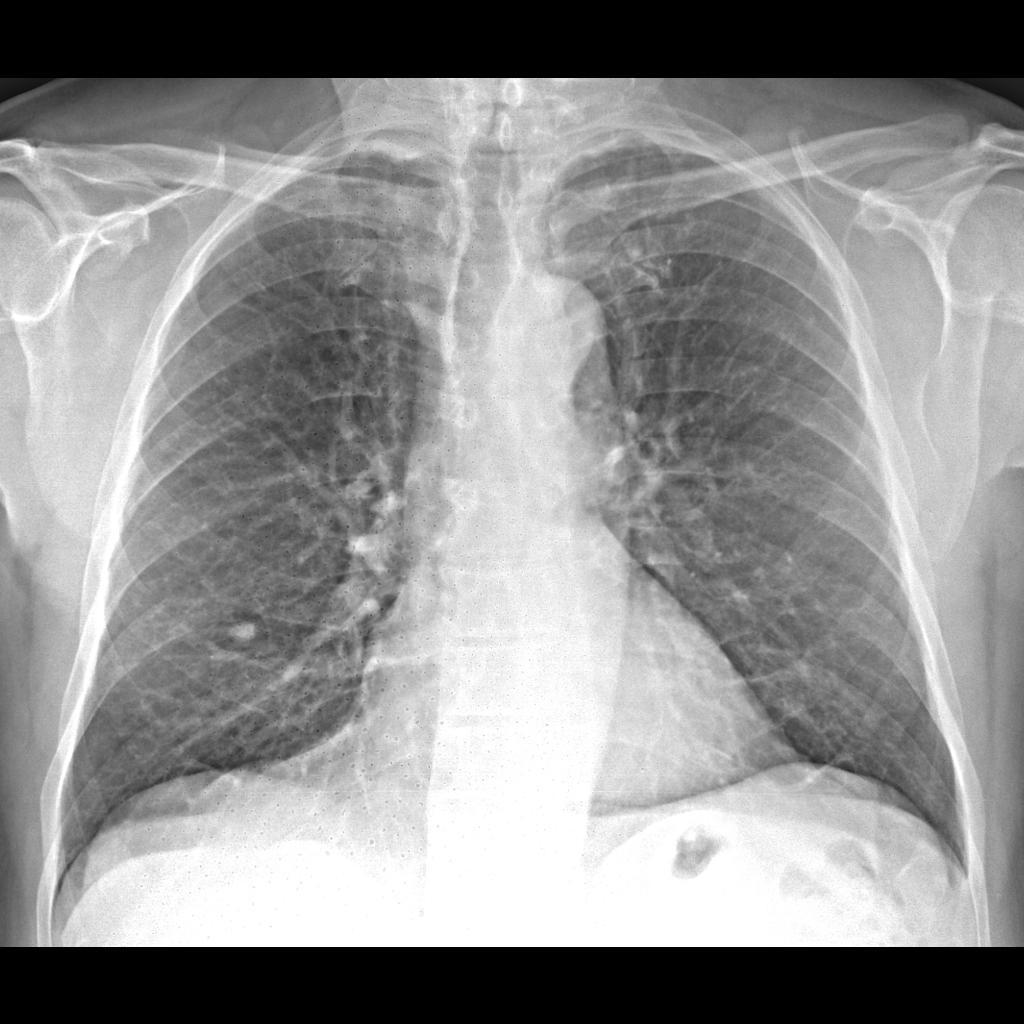Nodule: (220, 616, 266, 653)
